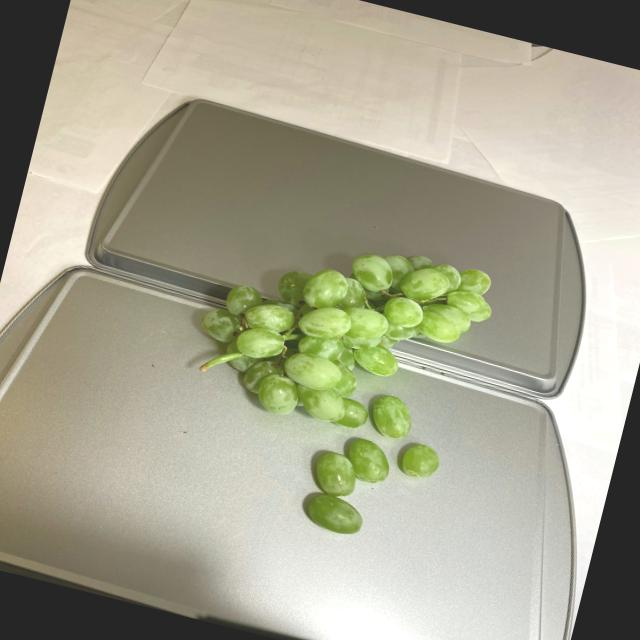grapes: (159, 204, 505, 554)
